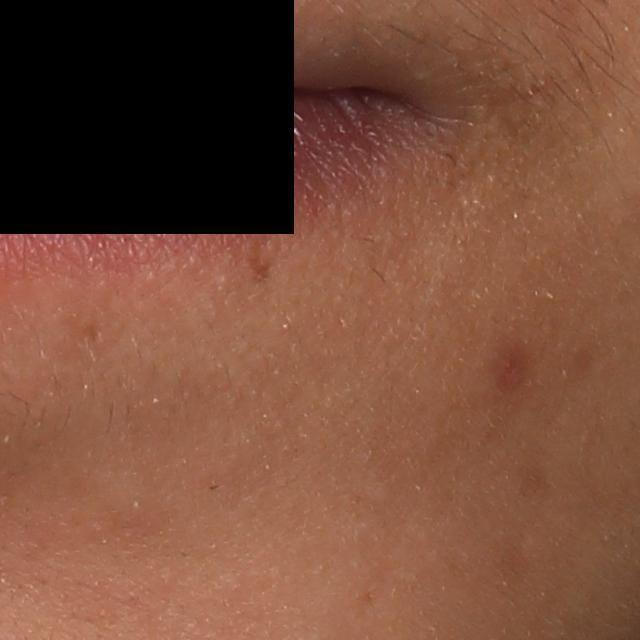nevus: (248, 252, 275, 284)
